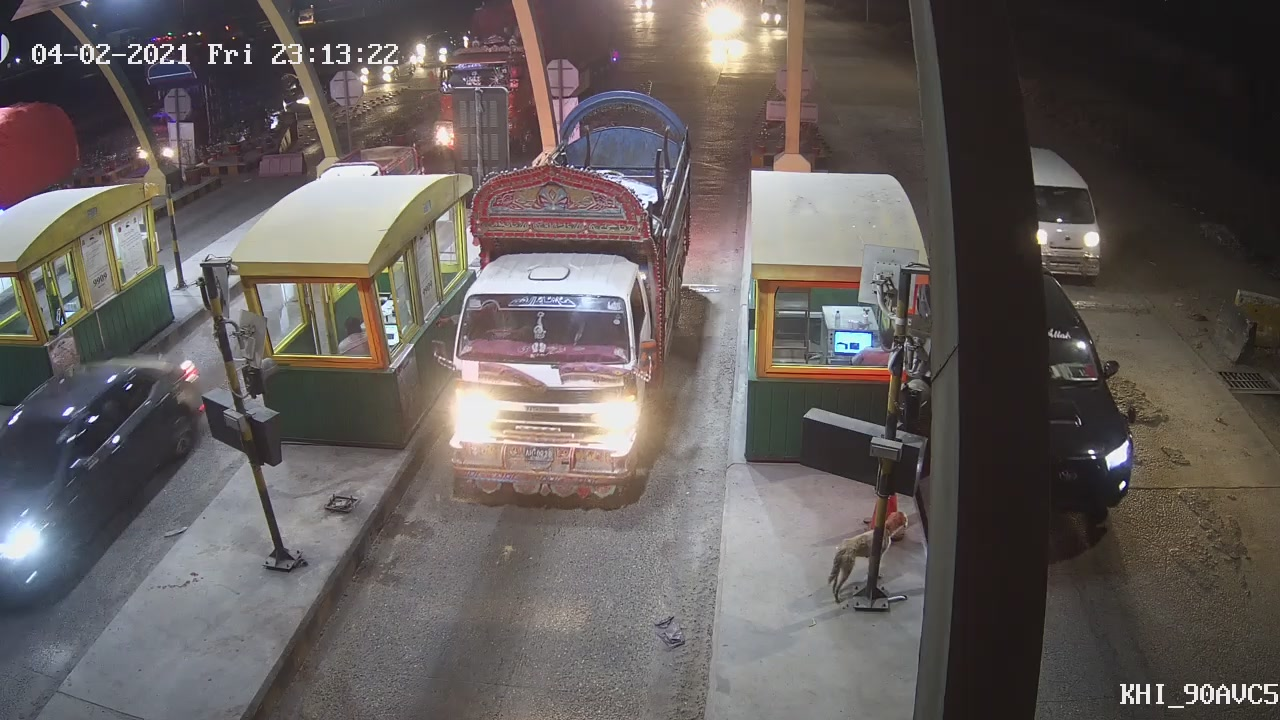F5: (429, 136, 685, 506)
